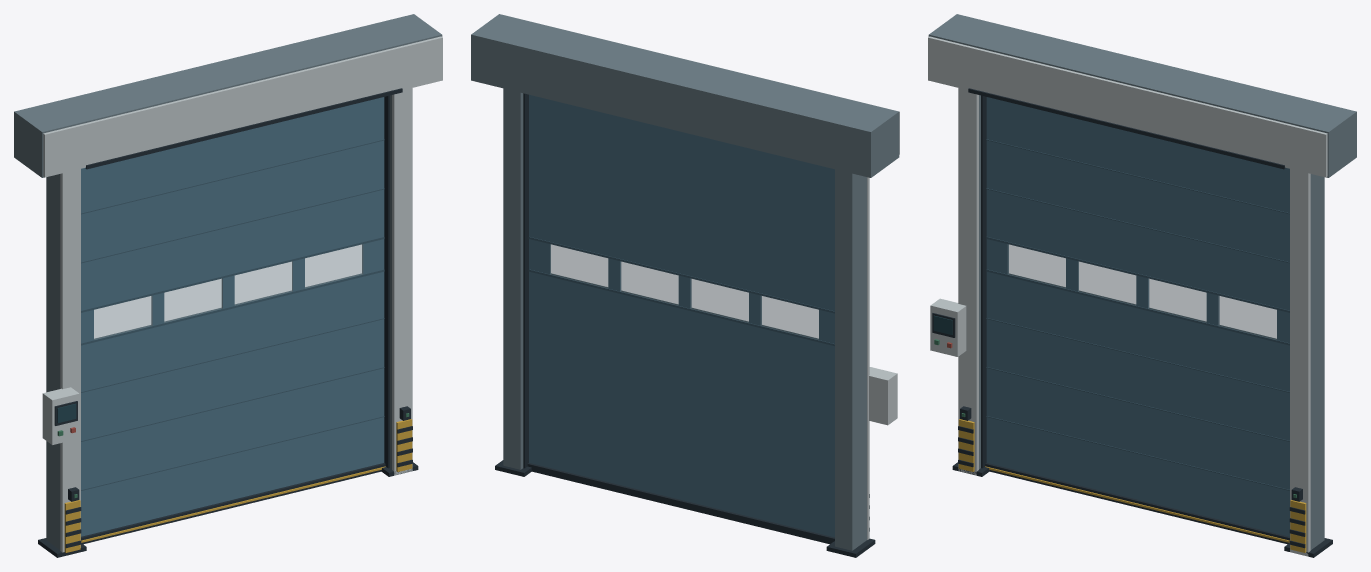
File: quick-shutter-closed.glb
3 renders of one model, left to right at view 1: azimuth 30°, elevation 25°; view 2: azimuth 150°, elevation 25°; view 3: azimuth 330°, elevation 25°, orthographic.
Parts seen in each view (by area): view 1: quick-shutter-curtain-shutterCurtain, quick-shutter-frame-surface (×3), quick-shutter-curtain-shutterWindow, quick-shutter-curtain-shutterSeam, quick-shutter-curtain-surface, quick-shutter-operator-panel-surface, quick-shutter-frame-warning, quick-shutter-curtain-warning; view 2: quick-shutter-curtain-shutterCurtain, quick-shutter-frame-surface (×3), quick-shutter-curtain-shutterWindow, quick-shutter-curtain-surface, quick-shutter-curtain-shutterSeam, quick-shutter-operator-panel-surface; view 3: quick-shutter-curtain-shutterCurtain, quick-shutter-frame-surface (×3), quick-shutter-curtain-shutterWindow, quick-shutter-curtain-shutterSeam, quick-shutter-curtain-surface, quick-shutter-operator-panel-surface, quick-shutter-frame-warning, quick-shutter-curtain-warning.
Boxes of the visible parts, x1,y1,x2,y2 form: quick-shutter-curtain-shutterCurtain: (81,97,384,536); quick-shutter-frame-surface (×3): (14,14,442,557); quick-shutter-curtain-shutterWindow: (94,244,363,339); quick-shutter-curtain-shutterSeam: (81,139,384,490); quick-shutter-curtain-surface: (81,463,385,544); quick-shutter-operator-panel-surface: (42,387,79,444); quick-shutter-frame-warning: (64,419,412,552); quick-shutter-curtain-warning: (81,466,385,542); quick-shutter-curtain-shutterCurtain: (529,94,834,537); quick-shutter-frame-surface (×3): (471,14,899,557); quick-shutter-curtain-shutterWindow: (550,244,818,339); quick-shutter-curtain-surface: (527,463,834,544); quick-shutter-curtain-shutterSeam: (528,237,834,346); quick-shutter-operator-panel-surface: (869,367,897,425); quick-shutter-curtain-shutterCurtain: (986,97,1289,536); quick-shutter-frame-surface (×3): (928,14,1356,557); quick-shutter-curtain-shutterWindow: (1007,244,1276,339); quick-shutter-curtain-shutterSeam: (986,139,1289,490); quick-shutter-curtain-surface: (985,463,1289,544); quick-shutter-operator-panel-surface: (930,298,966,356); quick-shutter-frame-warning: (958,419,1306,552); quick-shutter-curtain-warning: (985,466,1289,542).
Size of the model in its own units: 4.1 by 4.25 by 0.602.
